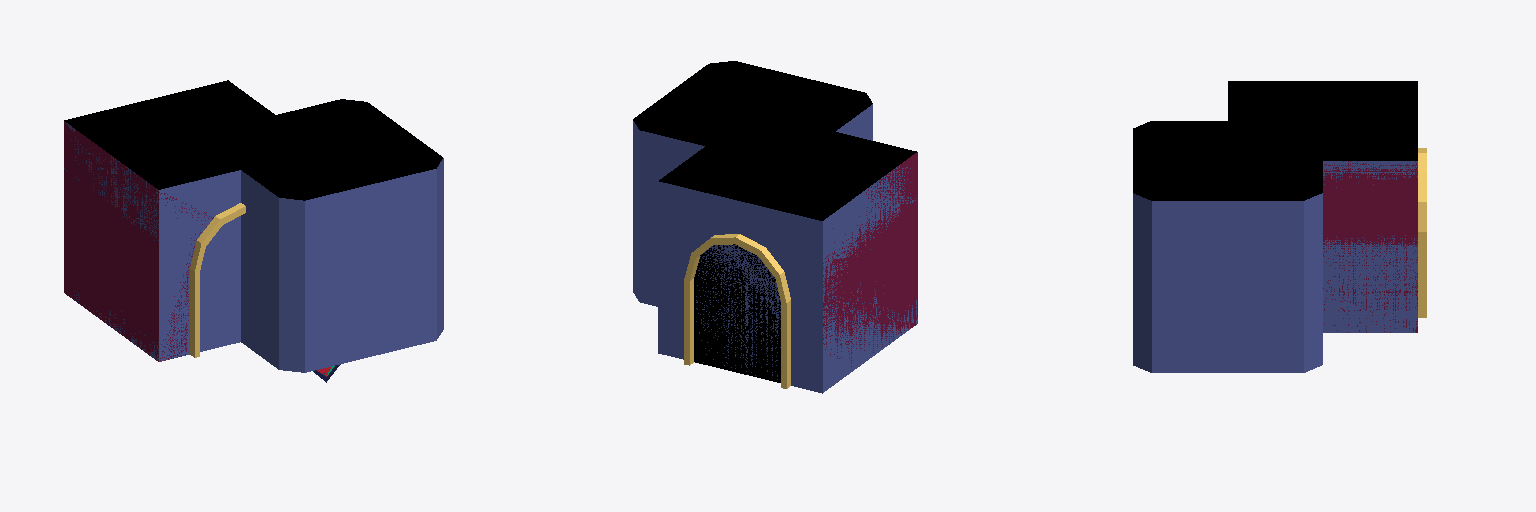
3 renders of one model, left to right at view 1: azimuth 30°, elevation 25°; view 2: azimuth 150°, elevation 25°; view 3: azimuth 270°, elevation 25°, orthographic.
Visible parts, largest first — view 1: Wall_Large_Pillar_Grey, Wall_Large_Exit_Red, Wall_Large_Block_Grey, Wall_Large_Doorway_Grey, Wall_Large_Corner_Grey, Wall_Medium_Pillar_Grey, Wall_Medium_Corner_Grey, Wall_Medium_Block_Grey; view 2: Wall_Large_Exit_Red, Wall_Large_Block_Grey, Wall_Large_Pillar_Grey, Wall_Large_Doorway_Grey, Wall_Large_Corner_Grey, Wall_Medium_Pillar_Grey, Wall_Small_Pillar_Grey, Wall_Small_Corner_Grey; view 3: Wall_Large_Pillar_Grey, Wall_Large_Exit_Red, Wall_Large_Block_Grey, Wall_Large_Corner_Grey, Wall_Large_Doorway_Grey, Wall_Medium_Pillar_Grey, Wall_Medium_Corner_Grey, Wall_Medium_Block_Grey.
Boxes of the visible parts, x1=… form: Wall_Large_Pillar_Grey: x1=226, y1=99, x2=443, y2=372; Wall_Large_Exit_Red: x1=64, y1=81, x2=298, y2=361; Wall_Large_Block_Grey: x1=64, y1=81, x2=320, y2=360; Wall_Large_Doorway_Grey: x1=66, y1=80, x2=319, y2=361; Wall_Large_Corner_Grey: x1=66, y1=80, x2=309, y2=354; Wall_Medium_Pillar_Grey: x1=255, y1=121, x2=386, y2=177; Wall_Medium_Corner_Grey: x1=168, y1=108, x2=298, y2=253; Wall_Medium_Block_Grey: x1=169, y1=109, x2=315, y2=334; Wall_Large_Exit_Red: x1=660, y1=114, x2=917, y2=382; Wall_Large_Block_Grey: x1=658, y1=118, x2=916, y2=393; Wall_Large_Pillar_Grey: x1=633, y1=61, x2=872, y2=306; Wall_Large_Doorway_Grey: x1=658, y1=117, x2=917, y2=392; Wall_Large_Corner_Grey: x1=659, y1=117, x2=914, y2=220; Wall_Medium_Pillar_Grey: x1=685, y1=83, x2=820, y2=134; Wall_Small_Pillar_Grey: x1=711, y1=94, x2=794, y2=120; Wall_Small_Corner_Grey: x1=715, y1=116, x2=806, y2=154; Wall_Large_Pillar_Grey: x1=1133, y1=121, x2=1322, y2=372; Wall_Large_Exit_Red: x1=1228, y1=81, x2=1417, y2=332; Wall_Large_Block_Grey: x1=1228, y1=81, x2=1417, y2=332; Wall_Large_Corner_Grey: x1=1229, y1=81, x2=1417, y2=332; Wall_Large_Doorway_Grey: x1=1228, y1=81, x2=1426, y2=332; Wall_Medium_Pillar_Grey: x1=1171, y1=140, x2=1284, y2=184; Wall_Medium_Corner_Grey: x1=1228, y1=113, x2=1341, y2=332; Wall_Medium_Block_Grey: x1=1228, y1=113, x2=1341, y2=332.
Size of the model in its own units: 7.5 by 6.69 by 7.75.
Materials: 1 (1 with a texture image).